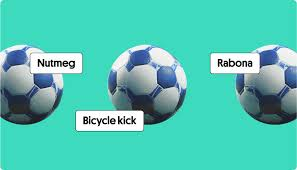football ball: (104, 45, 191, 125), (1, 45, 66, 126), (233, 45, 297, 126)
